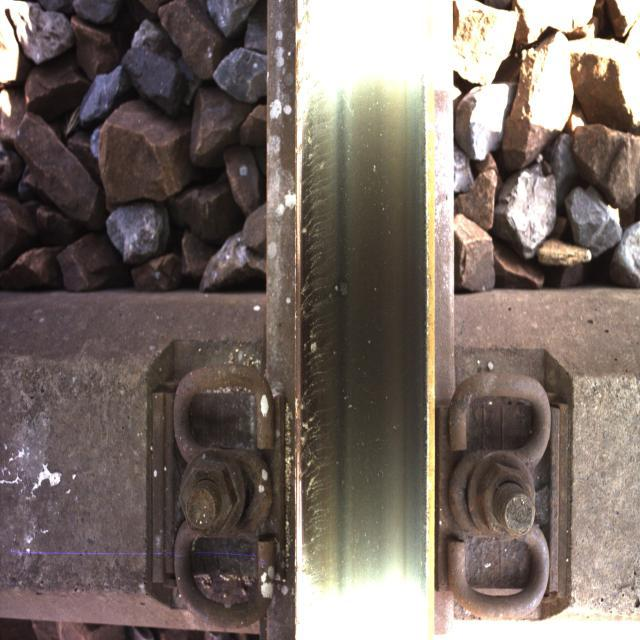normal: (304, 54, 411, 588)
